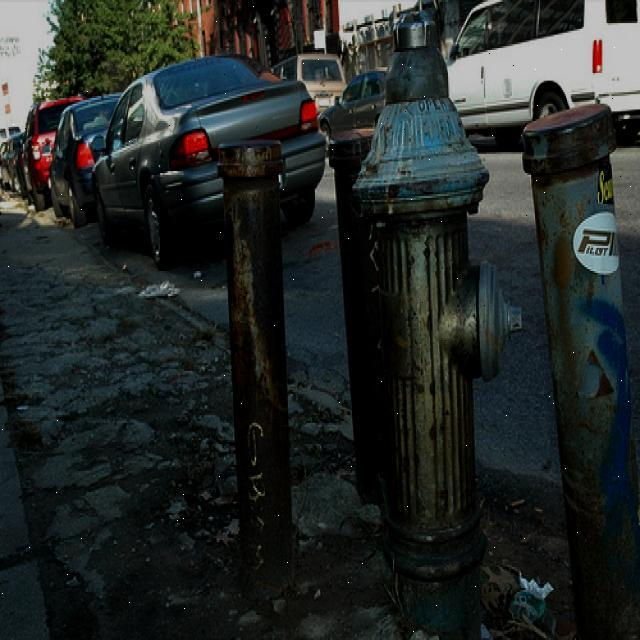fire_hydrant: (350, 10, 522, 632)
